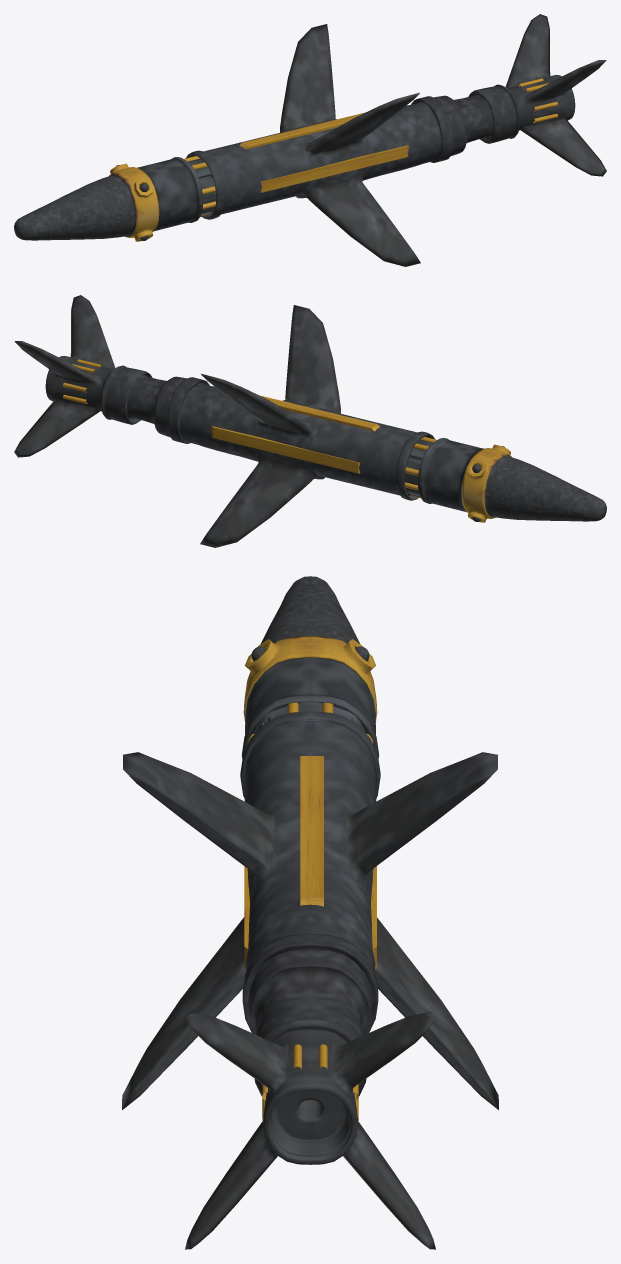
Rendered from missile.dae.
3 views of the same model, one above another, from view 1: azimuth 30°, elevation 25°; view 2: azimuth 150°, elevation 25°; view 3: azimuth 270°, elevation 25° (orthographic). The views are drawn at different scales.
Parts seen in each view (by area): view 1: Missile, Missile_side_Ext; view 2: Missile, Missile_side_Ext; view 3: Missile, Missile_side_Ext.
Boxes of the visible parts, bbox=[...] form: Missile: bbox=[14, 14, 606, 266]; Missile_side_Ext: bbox=[239, 112, 408, 192]; Missile: bbox=[14, 295, 606, 547]; Missile_side_Ext: bbox=[211, 394, 379, 473]; Missile: bbox=[122, 576, 498, 1249]; Missile_side_Ext: bbox=[244, 756, 376, 969].
Bounding box in the file's own units: 9.71 × 2.83 × 2.82.
Materials: 1 (1 with a texture image).
